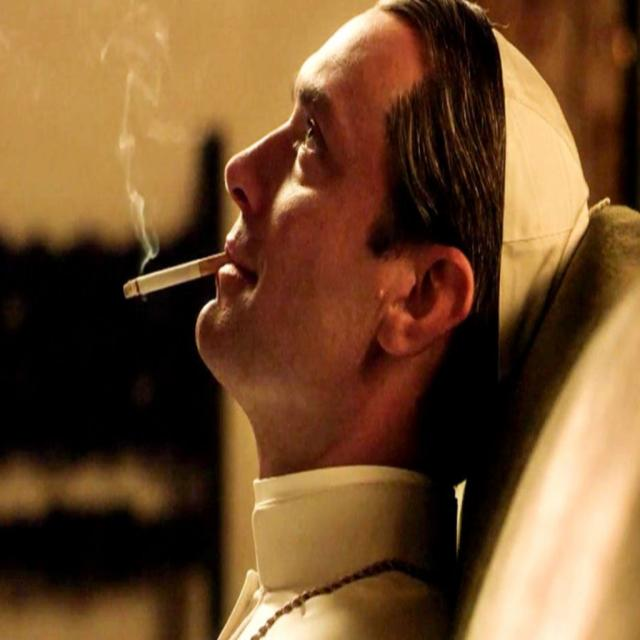smoking: (116, 19, 483, 466)
